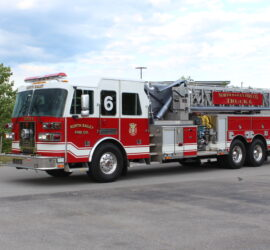special: (9, 72, 270, 183)
